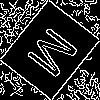M: (25, 25, 88, 86)
